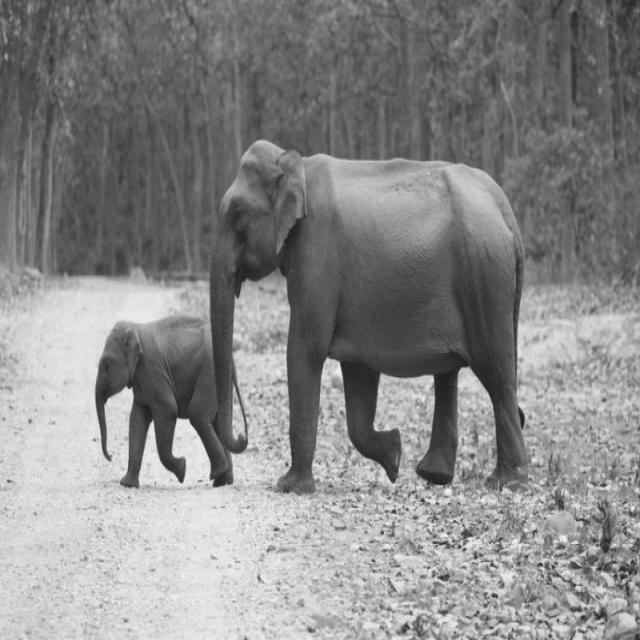Elephant: (209, 138, 527, 495), (95, 312, 248, 489)
